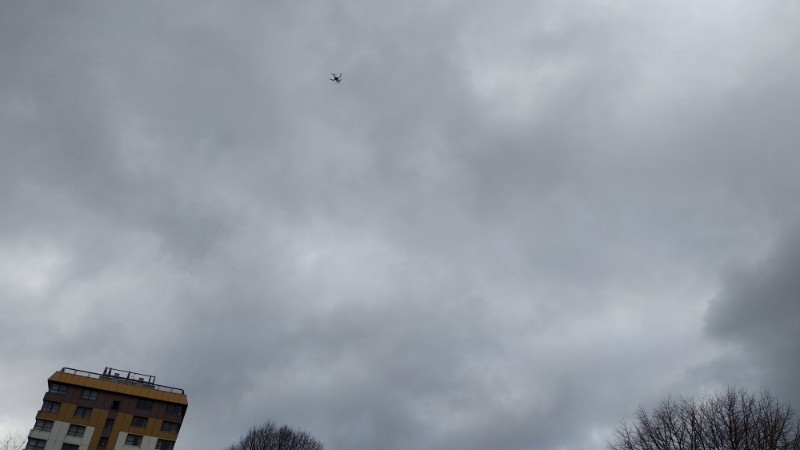drone: (330, 73, 343, 83)
